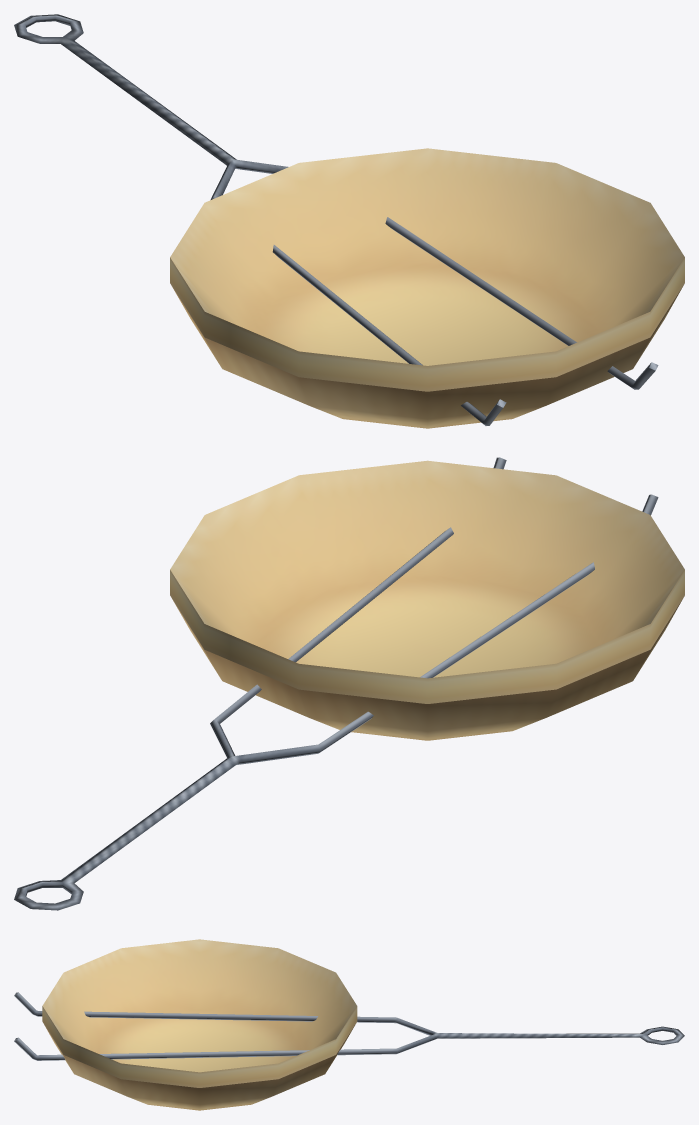
Rendered from jsf_Monaca_Poi.fbx.
The picture shows the model from 3 angles, top to bottom: view 1: azimuth 30°, elevation 25°; view 2: azimuth 150°, elevation 25°; view 3: azimuth 270°, elevation 25°; orthographic projection. The views are drawn at different scales.
Visible parts, largest first — view 1: jsf_Monaca_Poi; view 2: jsf_Monaca_Poi; view 3: jsf_Monaca_Poi.
Boxes of the visible parts, x1,y1,x2,y2 form: jsf_Monaca_Poi: [14, 14, 684, 428]; jsf_Monaca_Poi: [14, 457, 684, 910]; jsf_Monaca_Poi: [14, 939, 684, 1110].
Bounding box in the file's own units: 6 × 1.28 × 12.8.
